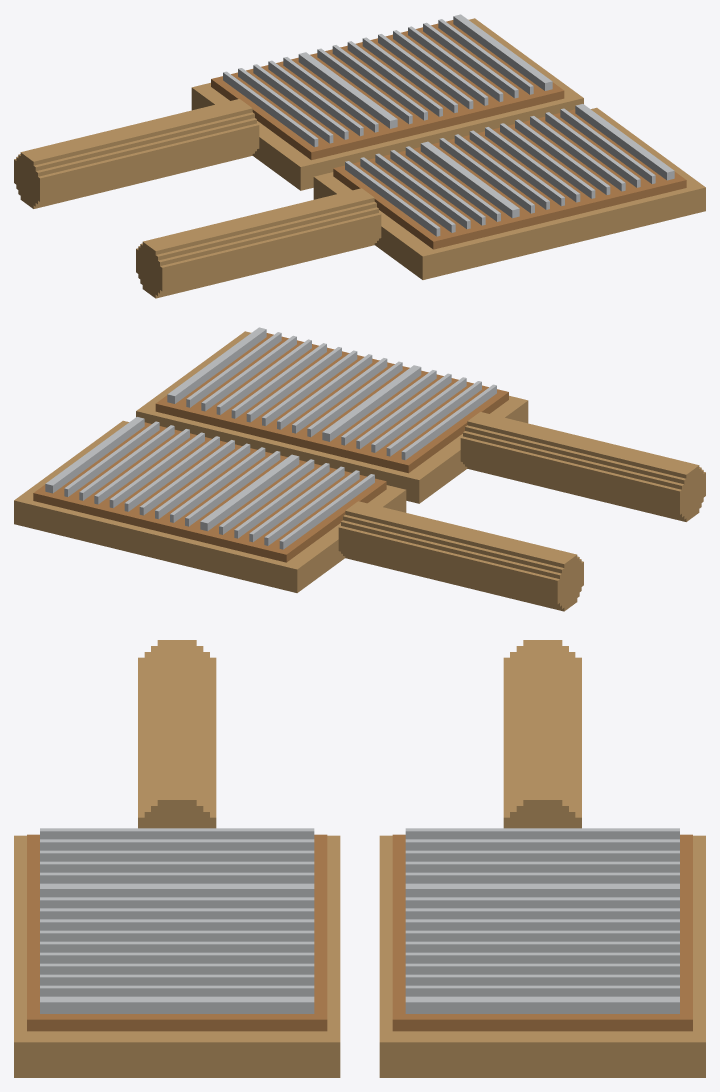
File: carding_paddles.glb
The picture shows the model from 3 angles, top to bottom: view 1: azimuth 30°, elevation 25°; view 2: azimuth 150°, elevation 25°; view 3: azimuth 270°, elevation 25°; orthographic projection. The views are drawn at different scales.
Parts seen in each view (by area): view 1: carding_paddles:compound; view 2: carding_paddles:compound; view 3: carding_paddles:compound.
Part boxes in pixels (x1,y1,x2,y2): carding_paddles:compound: (14,14,705,298); carding_paddles:compound: (14,327,705,611); carding_paddles:compound: (14,640,705,1077).
Size of the model in its own units: 0.266 by 0.024 by 0.212.
